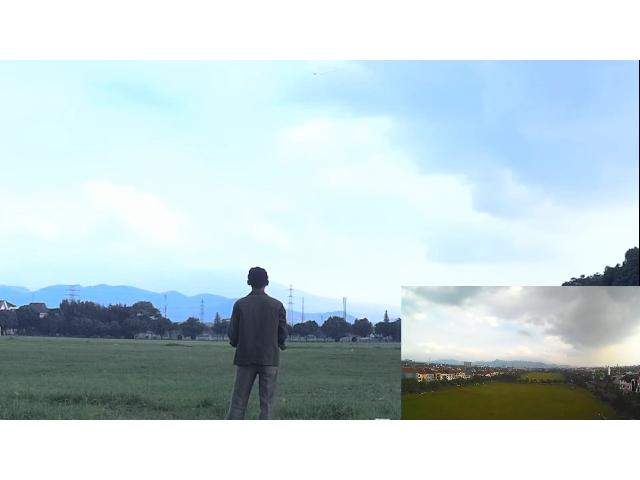Anti-Drone: (299, 65, 331, 79)
